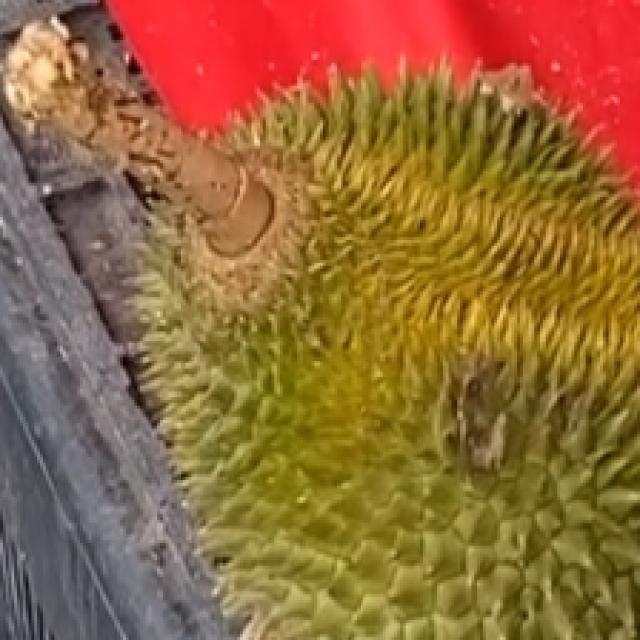d24: (17, 48, 640, 598)
